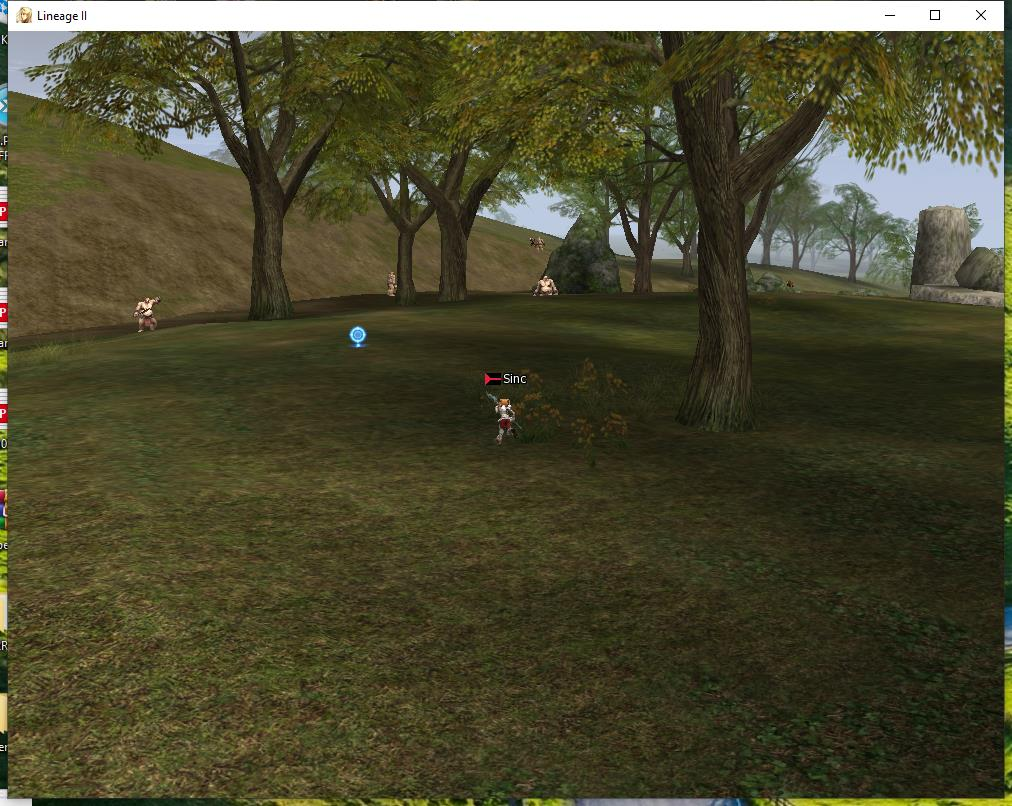monster: (122, 285, 170, 340), (531, 272, 562, 309), (382, 264, 404, 302), (529, 230, 550, 256)
